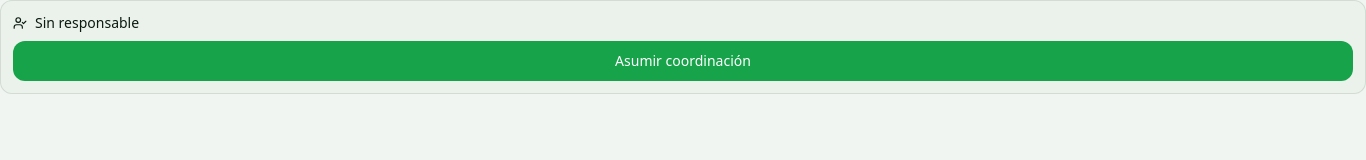
Test: BloqueCoordinacion (HU-39) › el botón se deshabilita mientras se envía y, al terminar, muestra que coordinas y actualiza
Click the button "Asumir coordinación". click: (683, 61)
box: [13,41,1353,81]
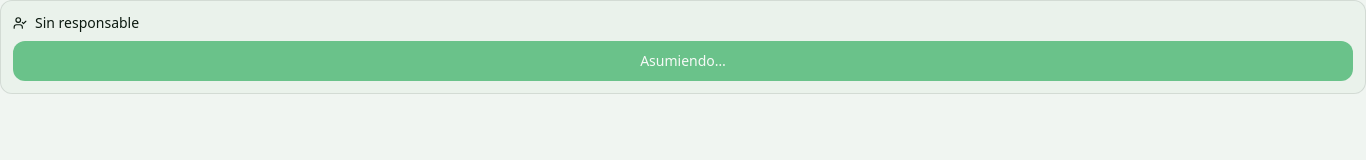
Expected: the button "Asumiendo…" is shown
Click the button "Asumiendo…". click: (683, 61)
box: [13,41,1353,81]
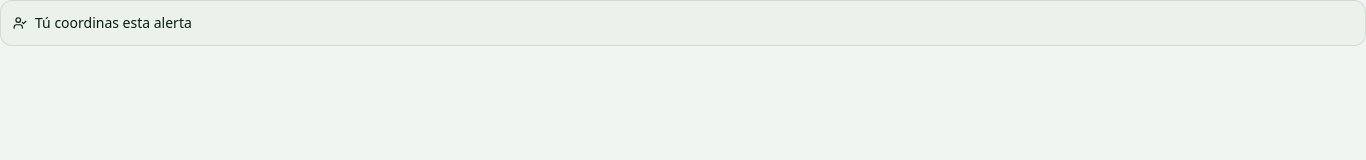
Expected: the text "Tú coordinas esta alerta" is shown, [35,13,192,33]
